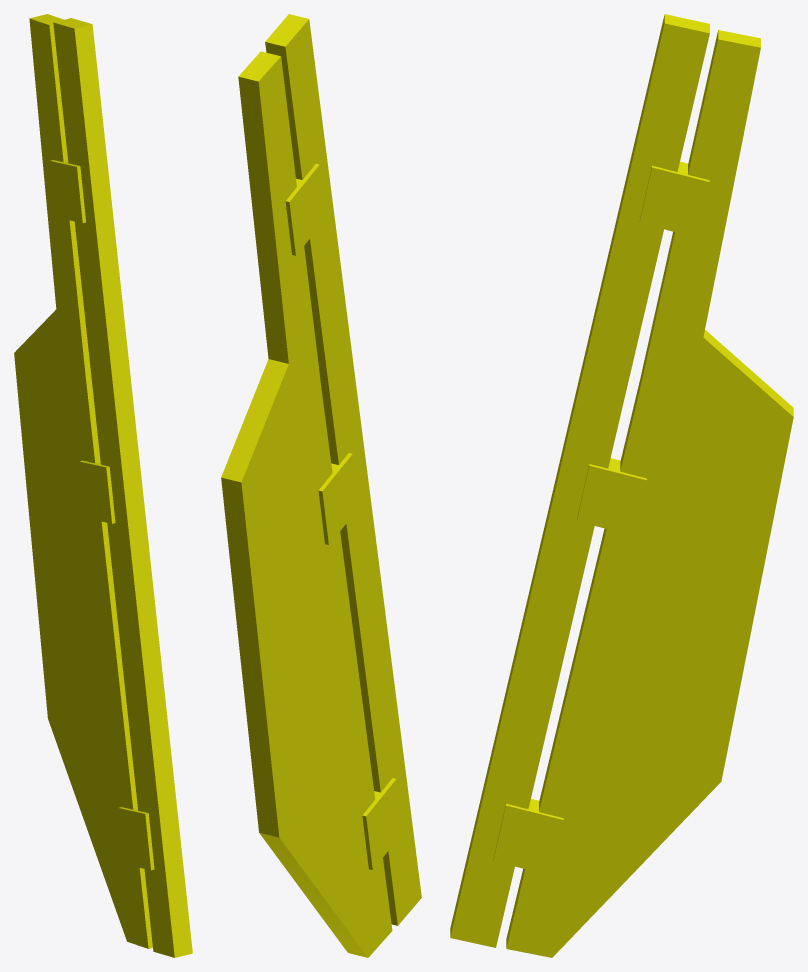
Rendered from Ship_Rudder.fbx.
3 renders of one model, left to right at view 1: azimuth 30°, elevation 25°; view 2: azimuth 150°, elevation 25°; view 3: azimuth 270°, elevation 25°, orthographic. The views are drawn at different scales.
Parts seen in each view (by area): view 1: Rudder; view 2: Rudder; view 3: Rudder.
Part boxes in pixels (<box>): Rudder: <box>14,14,192,957</box>; Rudder: <box>221,14,421,957</box>; Rudder: <box>450,14,793,957</box>.
Bounding box in the file's own units: 1.38 × 46.14 × 15.37.
